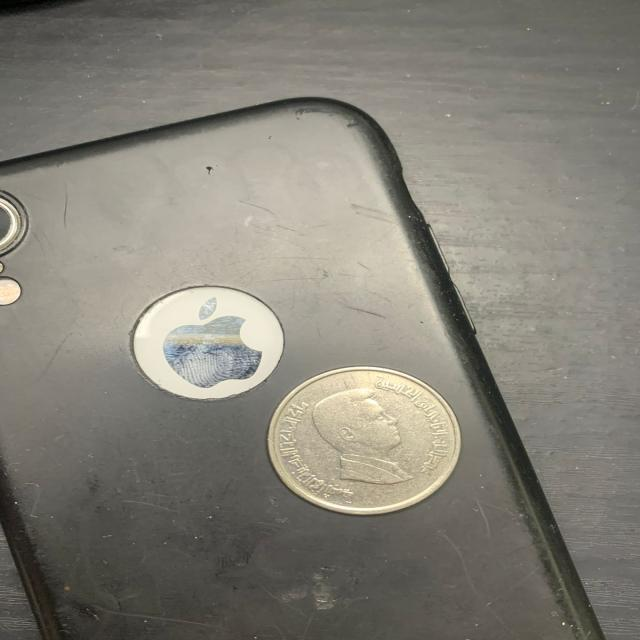10-coins: (265, 366, 463, 516)
